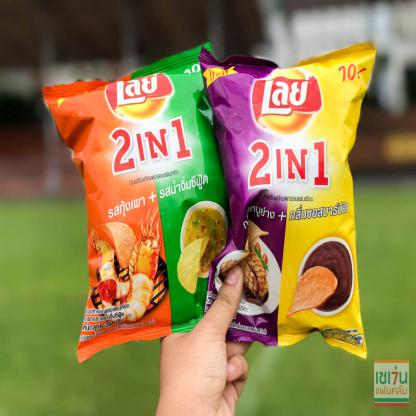potatochip: (27, 36, 241, 370), (193, 37, 379, 363)
